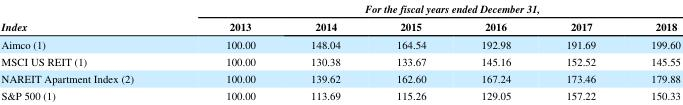table: (0, 1, 680, 102)
table column: (0, 1, 179, 102), (179, 1, 282, 102), (367, 1, 453, 102), (282, 1, 367, 102), (537, 1, 622, 102), (453, 1, 537, 102), (622, 1, 680, 102)
table column header: (0, 1, 680, 34)
table row: (0, 16, 680, 34), (0, 34, 680, 52), (0, 52, 680, 69), (0, 69, 680, 86), (0, 86, 680, 102), (0, 1, 680, 16)
table spanning cell: (179, 1, 680, 16), (0, 1, 179, 34)
